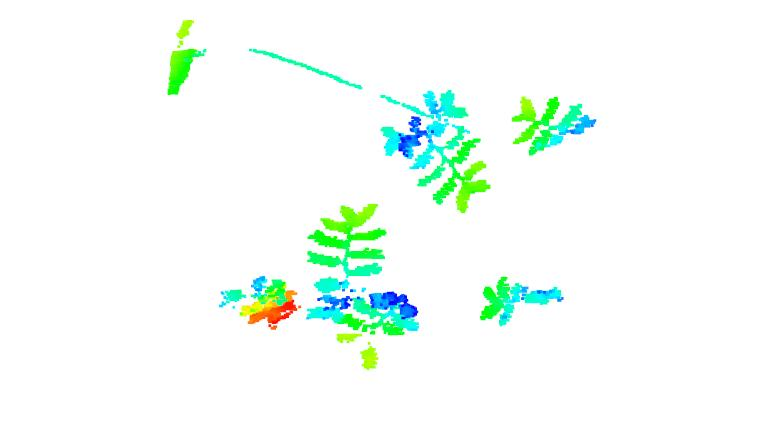chickpea: (378, 87, 490, 215), (305, 199, 368, 322), (335, 289, 421, 371), (507, 91, 595, 154), (211, 272, 297, 332), (481, 274, 565, 330)
